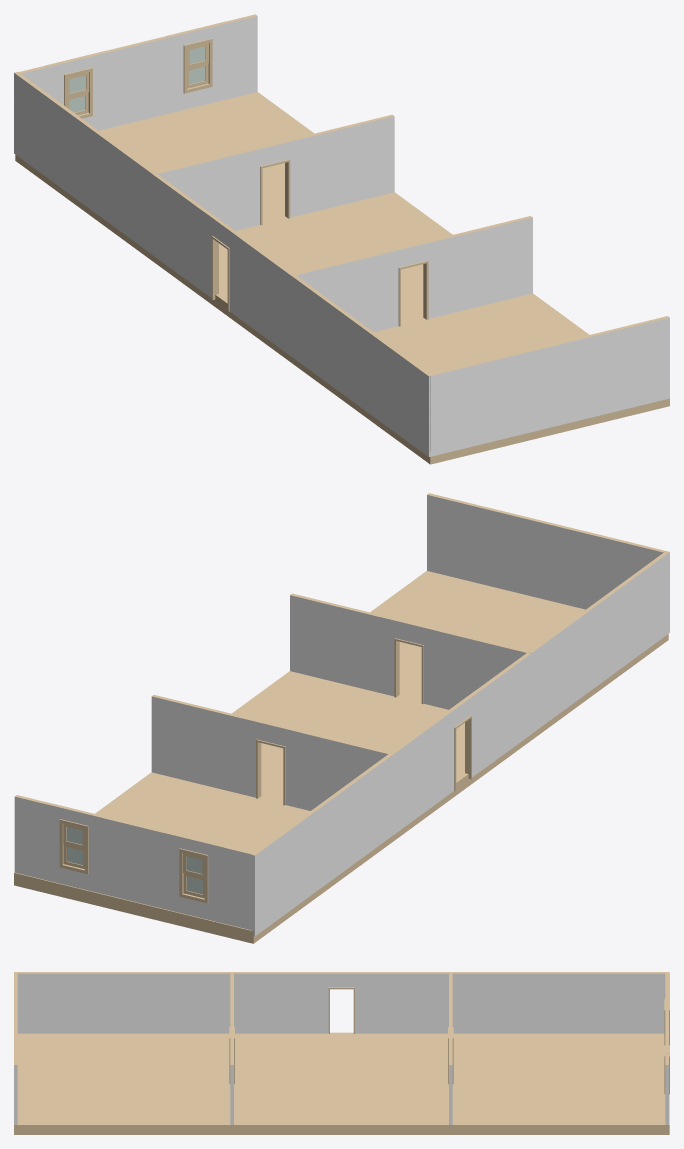
Rendered from Stage2.gltf.
3 views of the same model, one above another, from view 1: azimuth 30°, elevation 25°; view 2: azimuth 150°, elevation 25°; view 3: azimuth 270°, elevation 25° (orthographic). The views are drawn at different scales.
Visible parts, largest first — view 1: 壁.001, 窓壁2.002, ドア壁.001, ドア壁2.005, センター部屋.002, 壁2.001, サイド部屋1.001, 壁2.002, ドア壁2.004, サイド部屋2.001; view 2: 窓壁2.002, 壁.001, ドア壁.001, ドア壁2.005, サイド部屋2.001, 壁2.002, センター部屋.002, 壁2.001, ドア壁2.004, サイド部屋1.001; view 3: センター部屋.002, サイド部屋1.001, サイド部屋2.001, 壁2.001, 壁2.002, ドア壁2.004, 窓壁2.002, ドア壁.001, ドア壁2.005, 壁.001.
Part boxes in pixels (x1,y1,x2,y2): 壁.001: (430, 316, 669, 456); 窓壁2.002: (19, 14, 257, 130); ドア壁.001: (154, 114, 394, 230); ドア壁2.005: (292, 216, 532, 331); センター部屋.002: (153, 192, 452, 362); 壁2.001: (290, 274, 432, 456); サイド部屋1.001: (292, 293, 669, 464); 壁2.002: (14, 72, 155, 254); ドア壁2.004: (152, 173, 293, 355); サイド部屋2.001: (15, 92, 314, 261); 窓壁2.002: (14, 795, 253, 929); 壁.001: (427, 493, 667, 609); ドア壁.001: (151, 695, 392, 810); ドア壁2.005: (290, 593, 528, 709); サイド部屋2.001: (14, 772, 391, 943); 壁2.002: (251, 753, 393, 936); センター部屋.002: (232, 671, 530, 842); 壁2.001: (528, 551, 669, 733); ドア壁2.004: (391, 652, 531, 834); サイド部屋1.001: (370, 571, 668, 740); センター部屋.002: (232, 1032, 450, 1134); サイド部屋1.001: (14, 1033, 232, 1134); サイド部屋2.001: (451, 1033, 669, 1134); 壁2.001: (14, 972, 232, 1033); 壁2.002: (451, 972, 669, 1033); ドア壁2.004: (232, 972, 450, 1033); 窓壁2.002: (664, 973, 669, 1124); ドア壁.001: (448, 972, 453, 1124); ドア壁2.005: (229, 973, 234, 1124); 壁.001: (14, 973, 17, 1124).
Bounding box in the file's own units: 2.53 × 0.8837 × 7.5.
